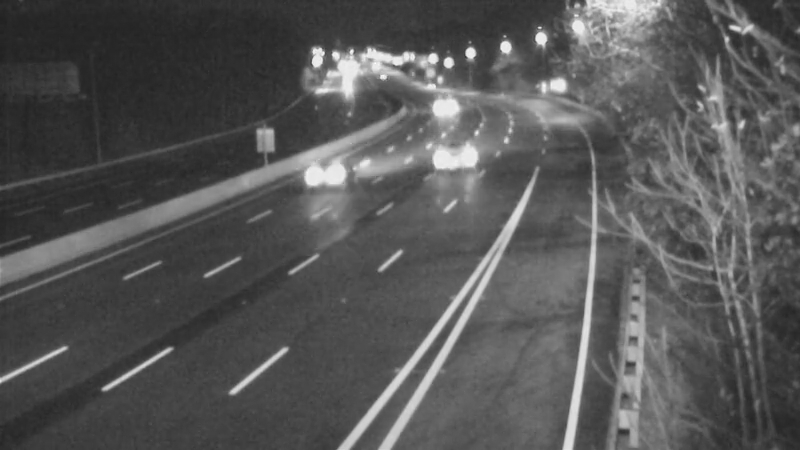vehicle: (414, 115, 494, 195), (284, 140, 364, 220), (421, 78, 471, 128)
